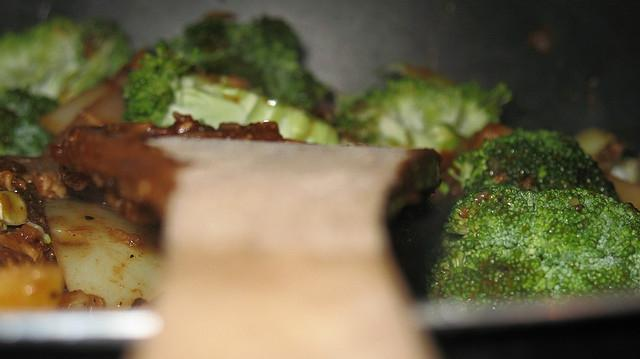broccoli: (428, 187, 640, 304), (120, 37, 340, 145), (168, 14, 328, 111), (332, 75, 514, 154), (448, 127, 624, 203), (0, 13, 87, 100), (55, 13, 135, 106), (0, 90, 59, 158)
